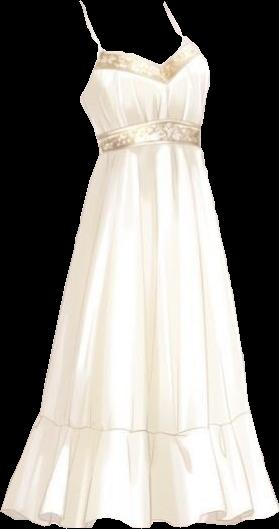Bodice: (79, 0, 209, 153)
Hemline: (0, 505, 278, 528)
Neckline: (79, 0, 187, 69), (91, 50, 202, 87), (95, 117, 202, 139)
Skirt: (1, 144, 278, 527)
Waistline: (38, 406, 254, 436), (97, 140, 202, 157)
